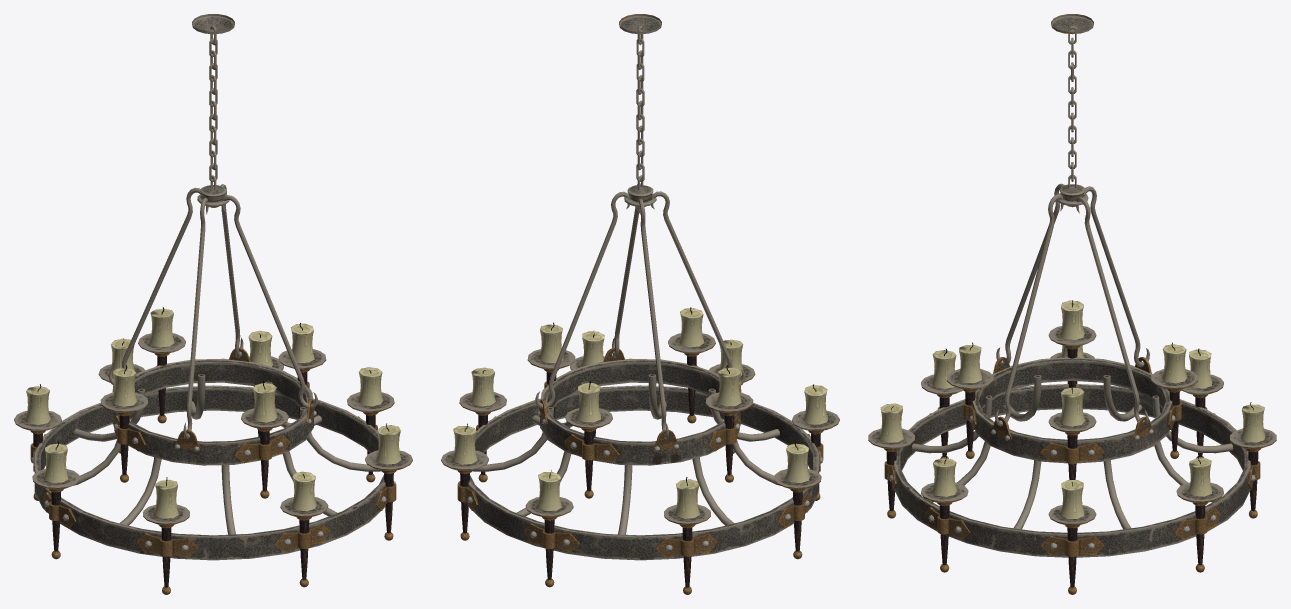
File: chandelier.obj
3 views of the same model, side by side, from view 1: azimuth 30°, elevation 25°; view 2: azimuth 150°, elevation 25°; view 3: azimuth 270°, elevation 25° (orthographic).
Parts seen in each view (by area): view 1: group42_Mesh; view 2: group42_Mesh; view 3: group42_Mesh.
Part boxes in pixels (x1,y1,x2,y2): group42_Mesh: (14,14,412,594); group42_Mesh: (441,14,839,594); group42_Mesh: (868,14,1276,594).
Size of the model in its own units: 0.3871 by 0.518 by 0.3871.
Materials: 1 (1 with a texture image).
